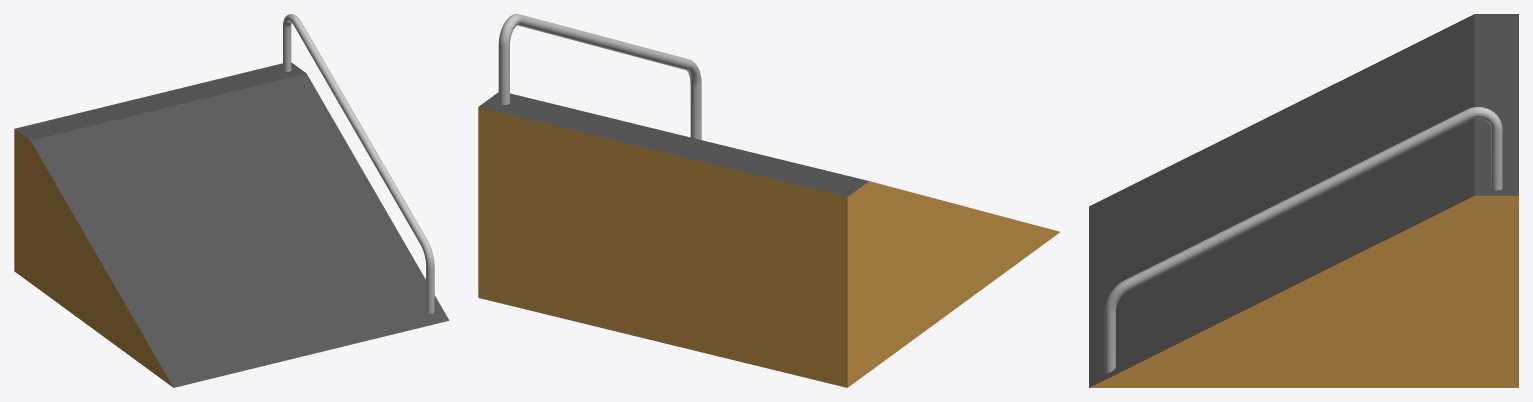
File: Skate_Wedge_Handrail_Right_01.FBX
3 views of the same model, side by side, from view 1: azimuth 30°, elevation 25°; view 2: azimuth 150°, elevation 25°; view 3: azimuth 270°, elevation 25° (orthographic). The views are drawn at different scales.
Parts seen in each view (by area): view 1: Skate_Wedge_Handrail_Right_01; view 2: Skate_Wedge_Handrail_Right_01; view 3: Skate_Wedge_Handrail_Right_01.
Part boxes in pixels (x1,y1,x2,y2): Skate_Wedge_Handrail_Right_01: (14, 14, 449, 387); Skate_Wedge_Handrail_Right_01: (478, 14, 1059, 387); Skate_Wedge_Handrail_Right_01: (1089, 14, 1518, 387).
Bounding box in the file's own units: 3 × 2.1 × 3.
